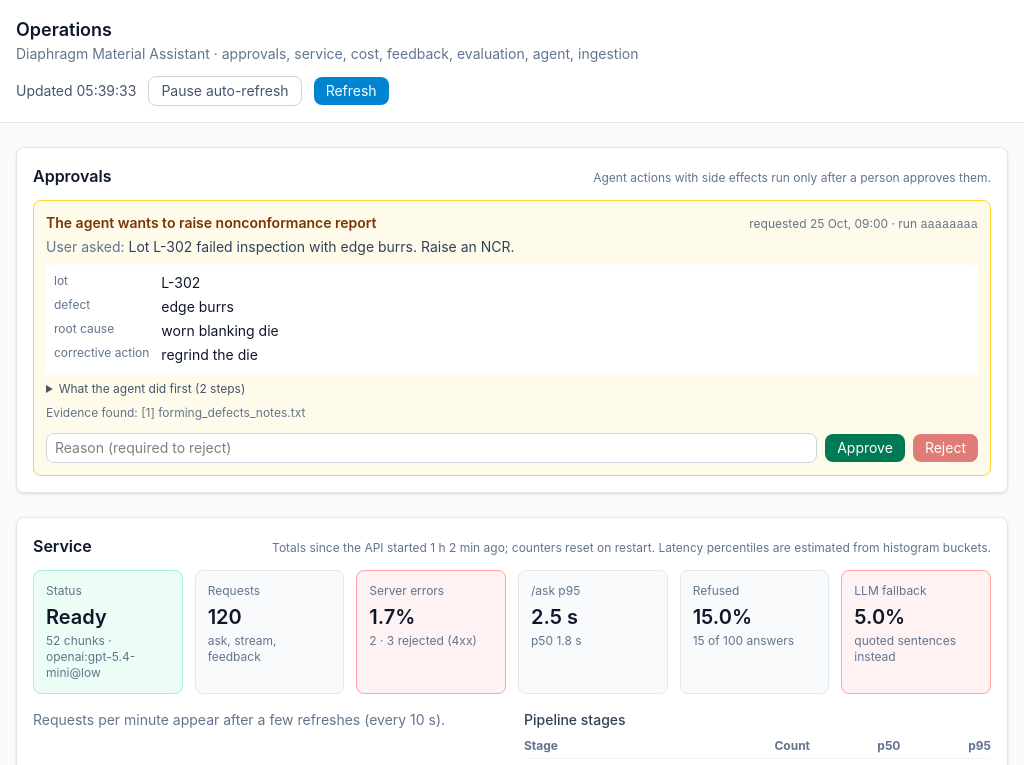
Test: Approvals › explains a decision that someone else made first
The image size is (1024, 765).
Click the button "Approve". click: coordinates (865, 448)
box: [825, 434, 905, 462]
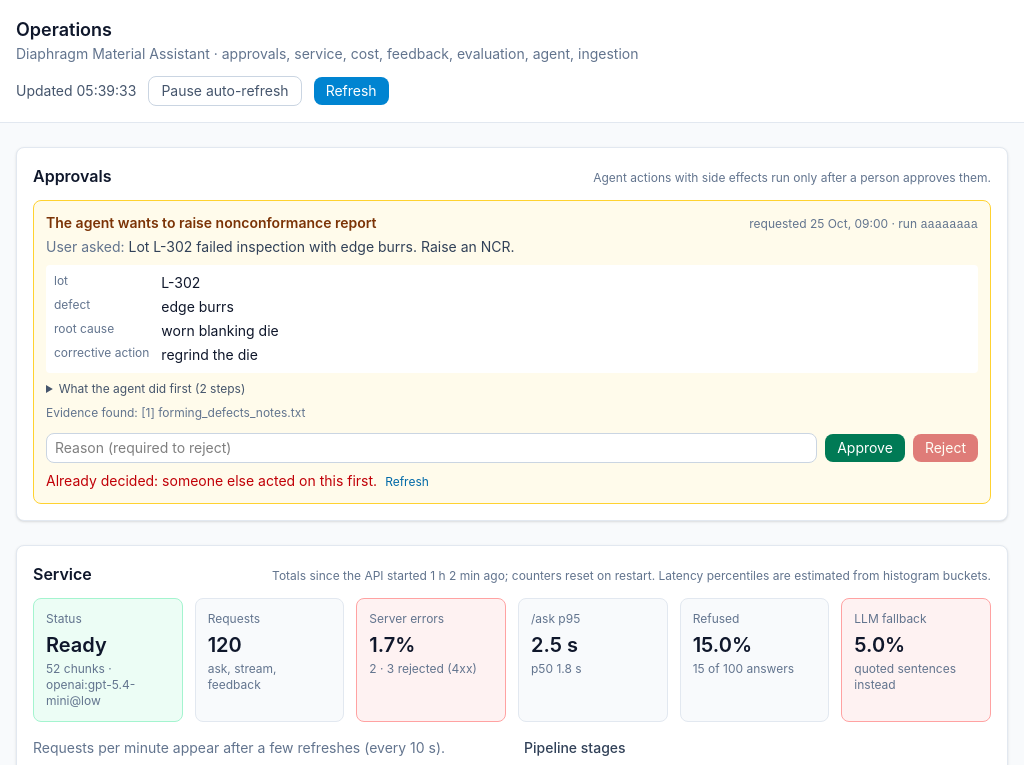
Expected: the text "Already decided: someone else acted on this first. Refresh" is shown, [46, 472, 429, 490]
